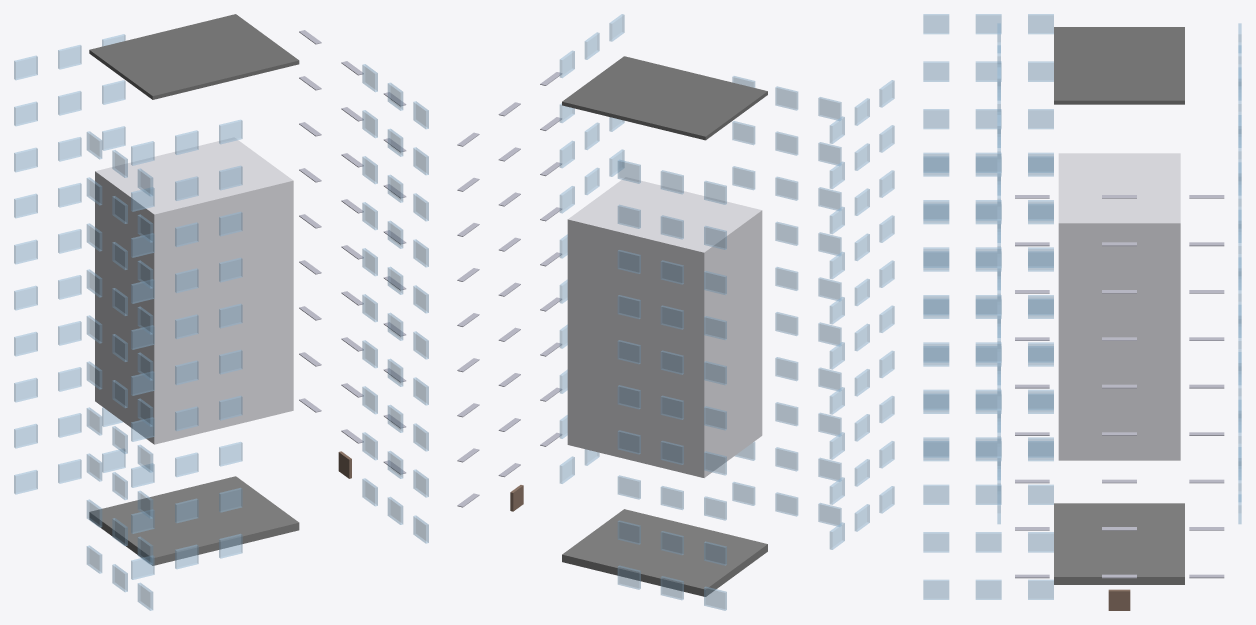
File: test_manual.glb
3 renders of one model, left to right at view 1: azimuth 30°, elevation 25°; view 2: azimuth 150°, elevation 25°; view 3: azimuth 270°, elevation 25°, orthographic. The views are drawn at different scales.
Parts seen in each view (by area): view 1: MainBuilding, Foundation, Roof; view 2: MainBuilding, Foundation, Roof; view 3: MainBuilding, Foundation, Roof, Window_F4_S0_W0, Window_F4_S0_W1, Window_F4_S0_W2, Window_F1_S0_W0, Window_F1_S0_W1, Window_F7_S0_W0, Window_F7_S0_W1, Window_F8_S0_W0, Window_F8_S0_W1 (+52 smaller).
Part boxes in pixels (<box>): MainBuilding: <box>95,137,293,444</box>; Foundation: <box>89,476,299,565</box>; Roof: <box>89,14,299,99</box>; MainBuilding: <box>567,177,762,477</box>; Foundation: <box>562,509,767,596</box>; Roof: <box>562,56,767,140</box>; MainBuilding: <box>1058,153,1180,460</box>; Foundation: <box>1054,503,1184,584</box>; Roof: <box>1054,27,1184,104</box>; Window_F4_S0_W0: <box>923,389,949,410</box>; Window_F4_S0_W1: <box>975,389,1001,410</box>; Window_F4_S0_W2: <box>1028,389,1053,410</box>; Window_F1_S0_W0: <box>923,532,949,552</box>; Window_F1_S0_W1: <box>975,532,1001,552</box>; Window_F7_S0_W0: <box>923,247,949,267</box>; Window_F7_S0_W1: <box>975,247,1001,267</box>; Window_F8_S0_W0: <box>923,200,949,220</box>; Window_F8_S0_W1: <box>975,200,1001,220</box>.
Bounding box in the file's own units: 20.5 × 30.62 × 18.25.
